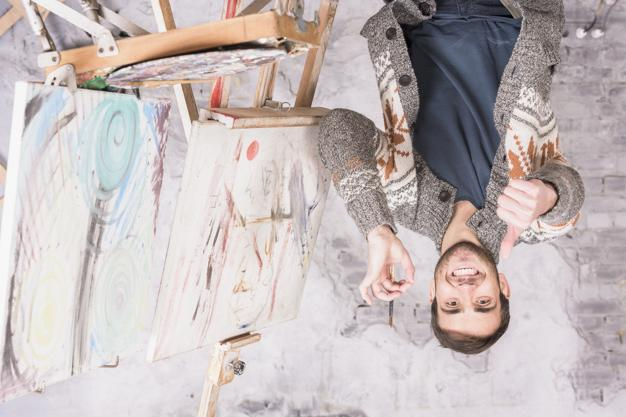thumbsdown: (496, 179, 541, 260)
